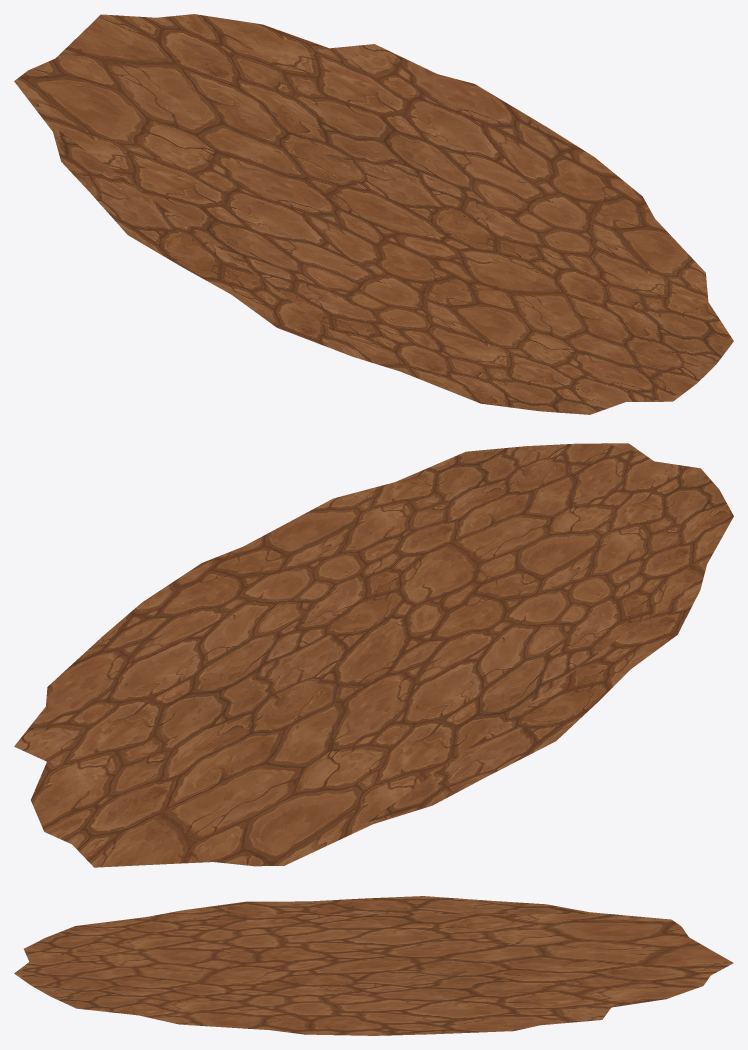
Rendered from ground.FBX.
3 views of the same model, one above another, from view 1: azimuth 30°, elevation 25°; view 2: azimuth 150°, elevation 25°; view 3: azimuth 270°, elevation 25° (orthographic). The views are drawn at different scales.
Parts seen in each view (by area): view 1: Object002; view 2: Object002; view 3: Object002.
Part boxes in pixels (bbox=[...]): Object002: bbox=[14, 14, 733, 414]; Object002: bbox=[14, 443, 733, 867]; Object002: bbox=[14, 896, 733, 1035].
Size of the model in its own units: 16.52 by 2.22e-15 by 35.92.
Materials: 1 (1 with a texture image).
